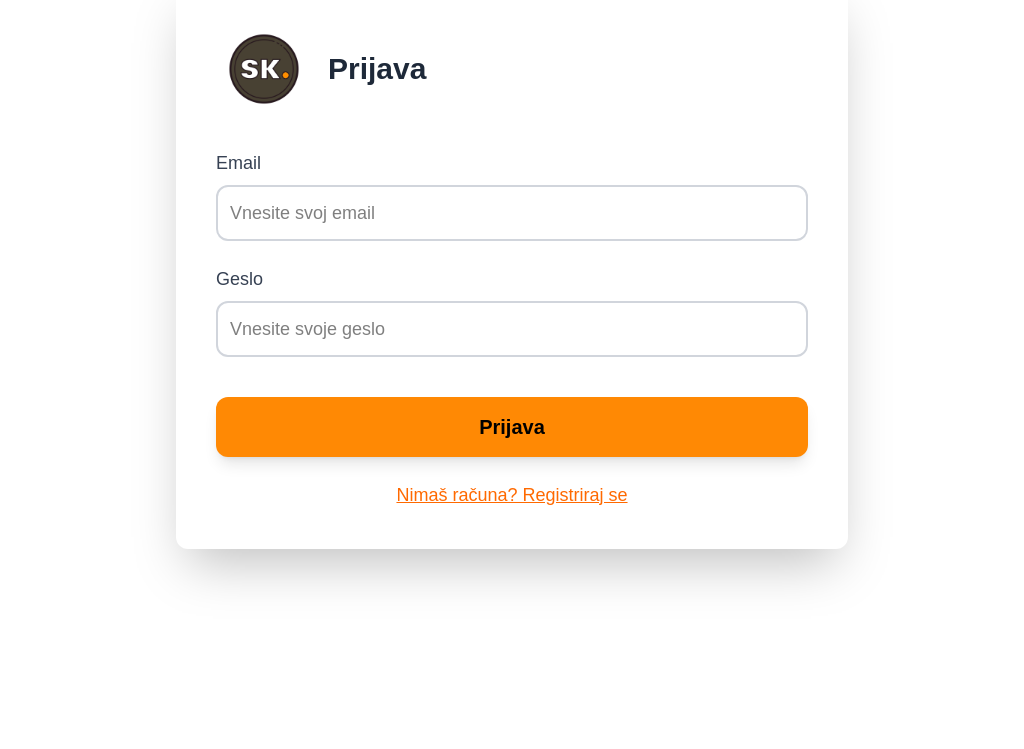
Test case: AuthForm Component › Signup Functionality › handles successful signup
Click the button "Nimaš računa? Registriraj se" at x=512, y=495, box [396, 481, 628, 509]
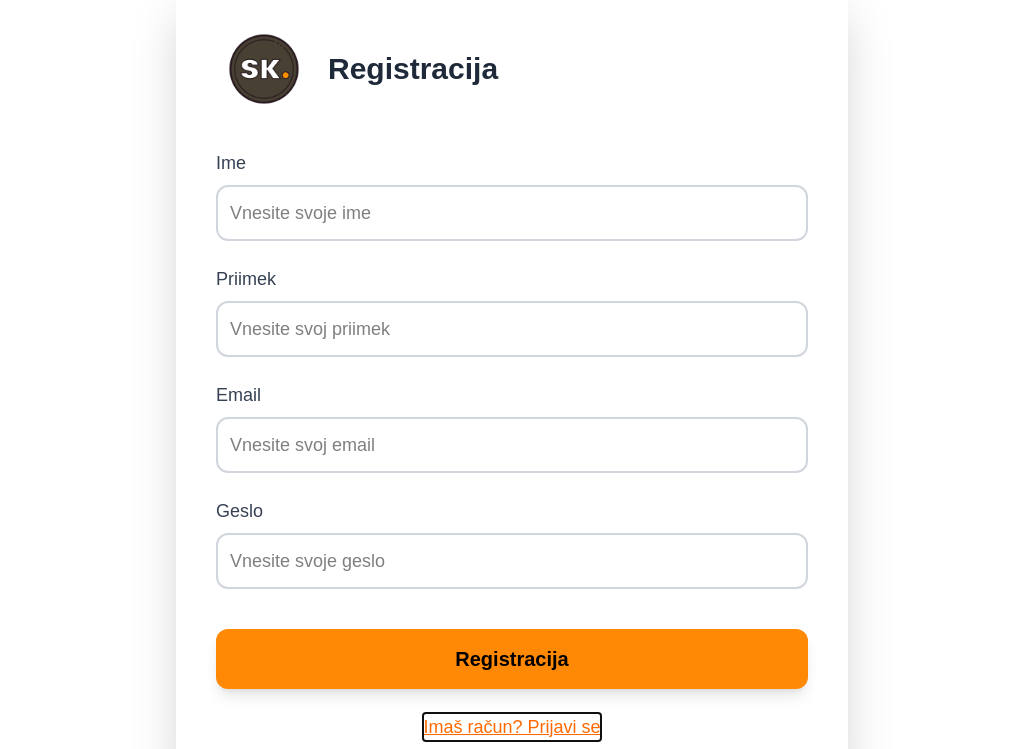
Type "John" into the field with placeholder "Vnesite svoje ime" at x=512, y=213, box [216, 185, 808, 241]
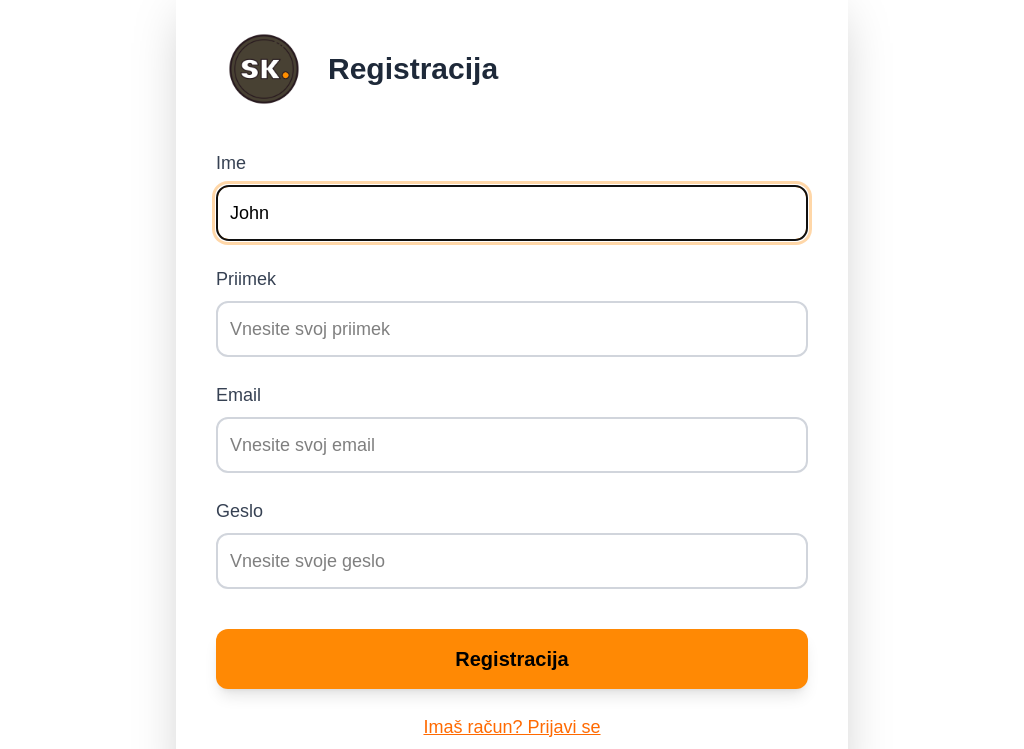
Type "Doe" into the field with placeholder "Vnesite svoj priimek" at x=512, y=329, box [216, 301, 808, 357]
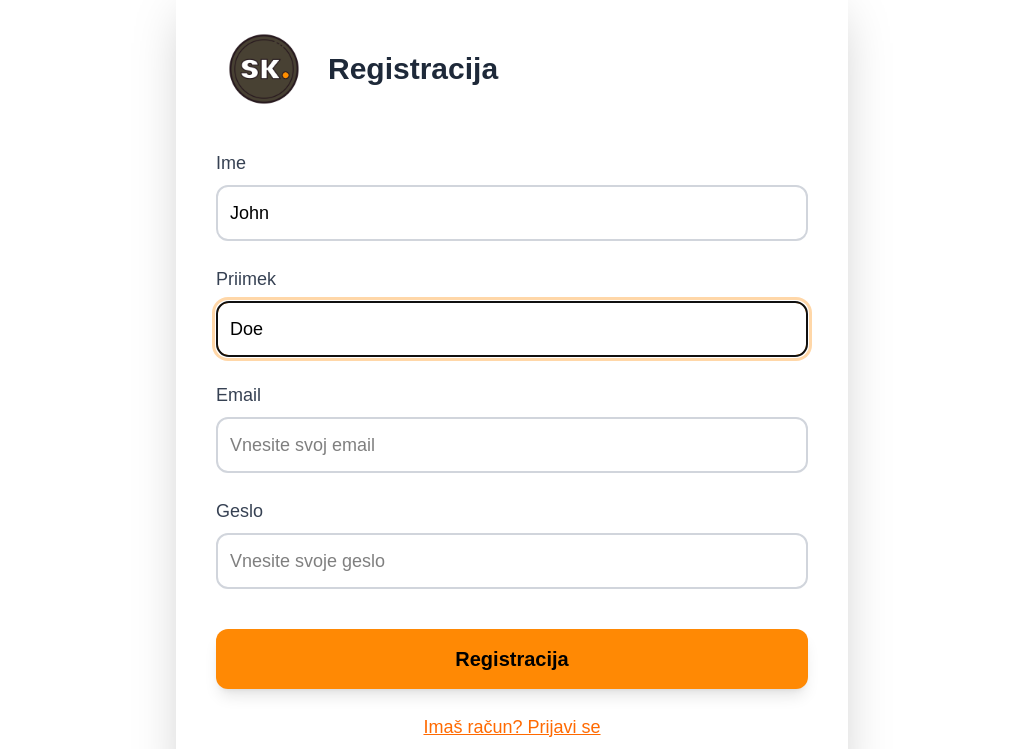
Type "test@example.com" into the field with placeholder "Vnesite svoj email" at x=512, y=445, box [216, 417, 808, 473]
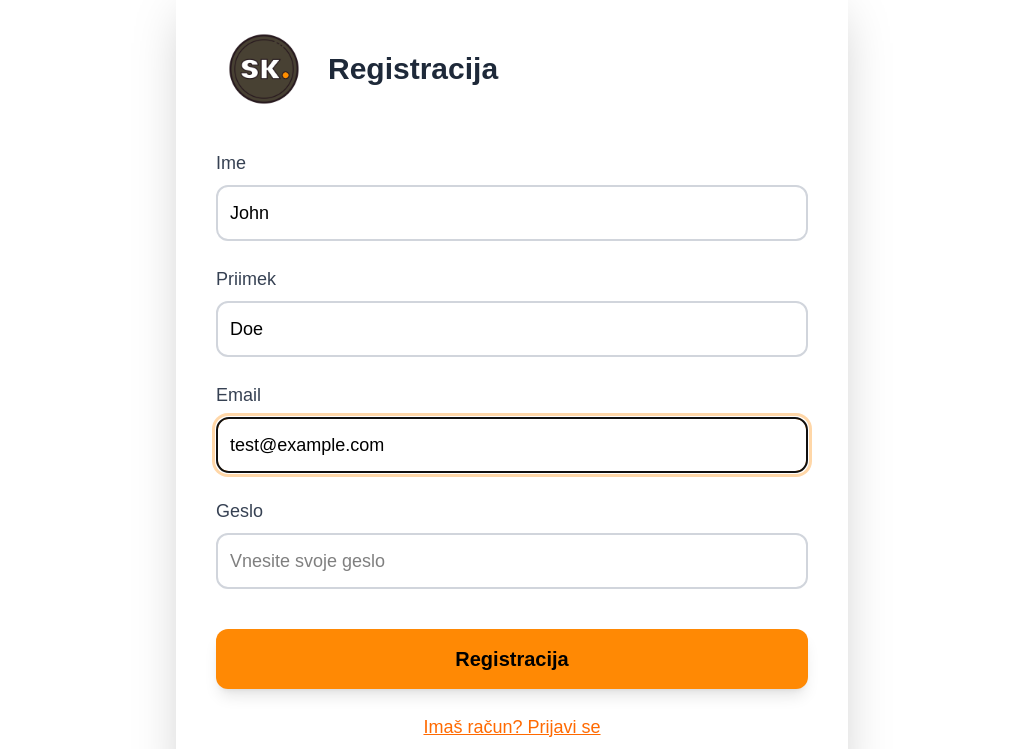
Type "password123" into the password field with placeholder "Vnesite svoje geslo" at x=512, y=561, box [216, 533, 808, 589]
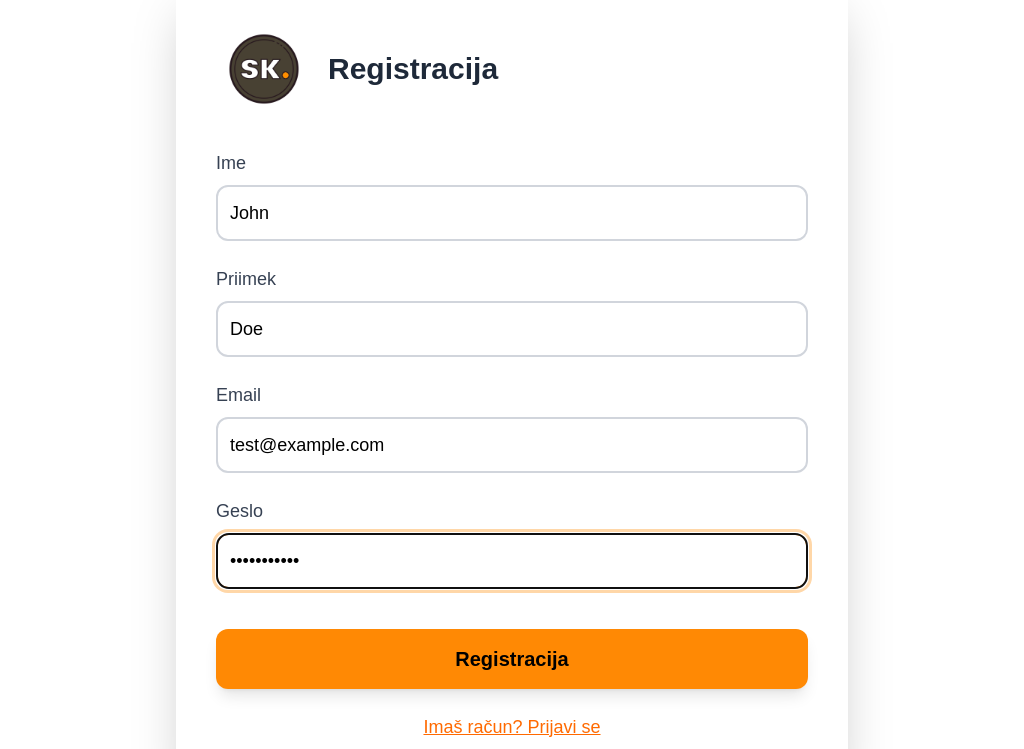
Click the button "Registracija" at x=512, y=659, box [216, 629, 808, 689]
(page scrolled)
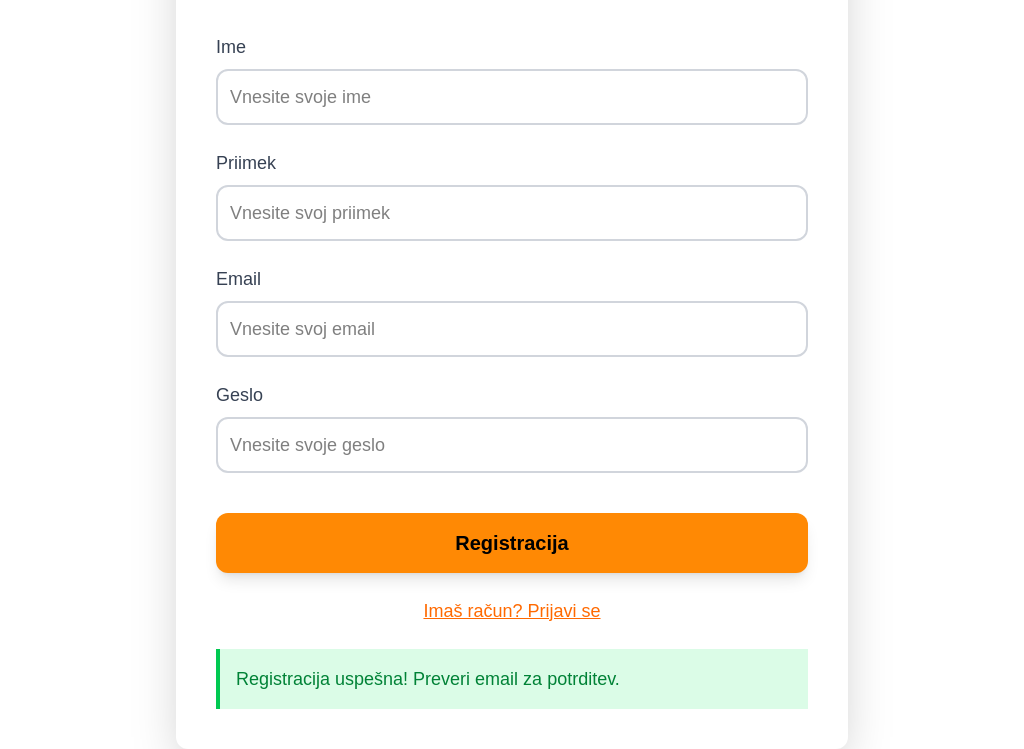
Check: the text "Registracija uspešna! Preveri email za potrditev." is shown, box [216, 649, 808, 709]
